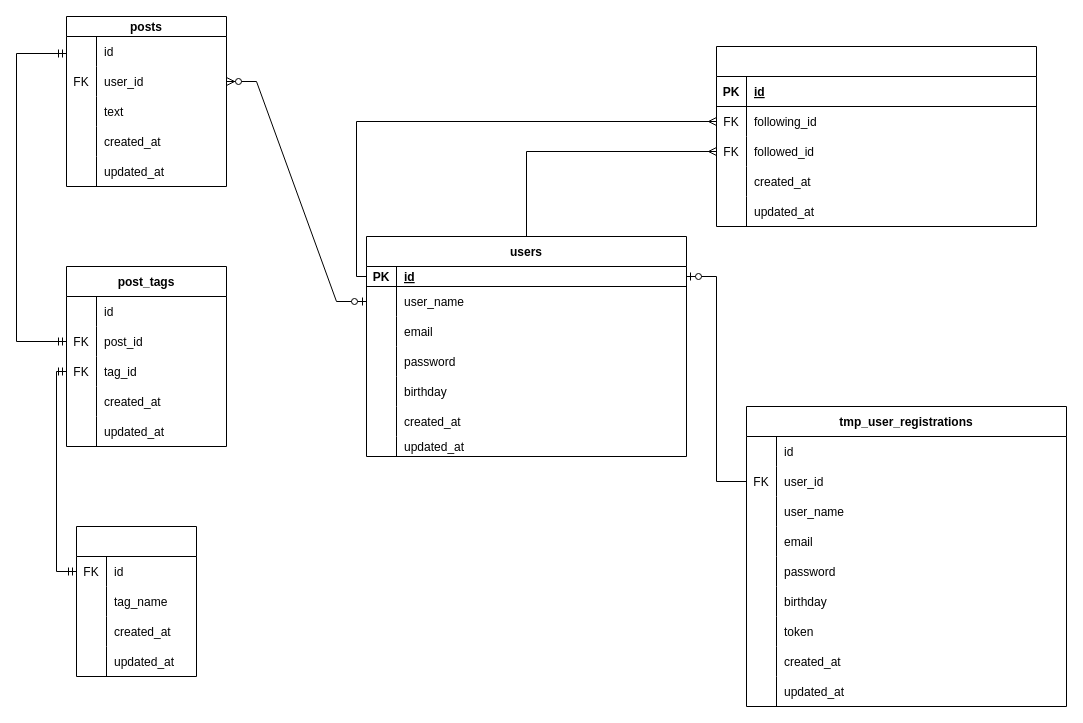
The diagram is 1083 pixels wide and 723 high, and some of its shapes have lost their labels. The box of each missing label's shape, as (x1, y1, x2, y2) in pixels:
follow_users: (716, 46, 1036, 226)
tags: (76, 526, 196, 676)
